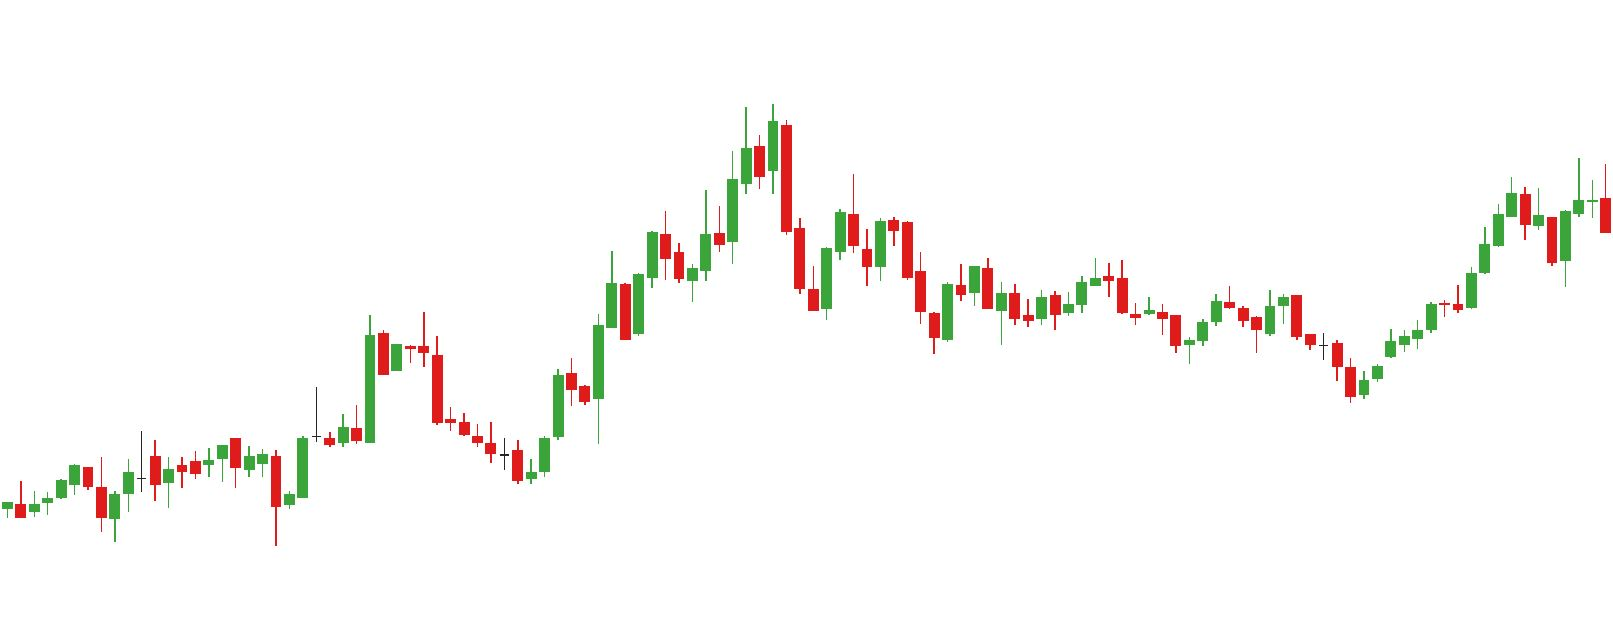buy: (163, 456, 298, 550)
